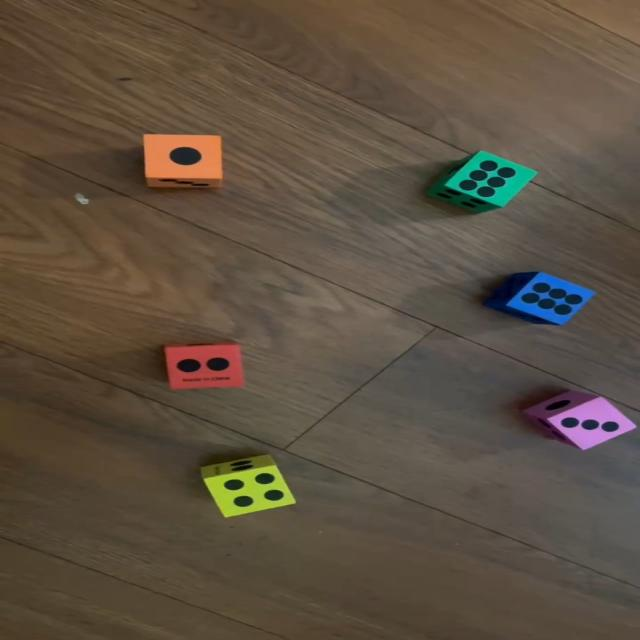blue_block: (489, 273, 597, 328)
red_block: (162, 342, 241, 390)
